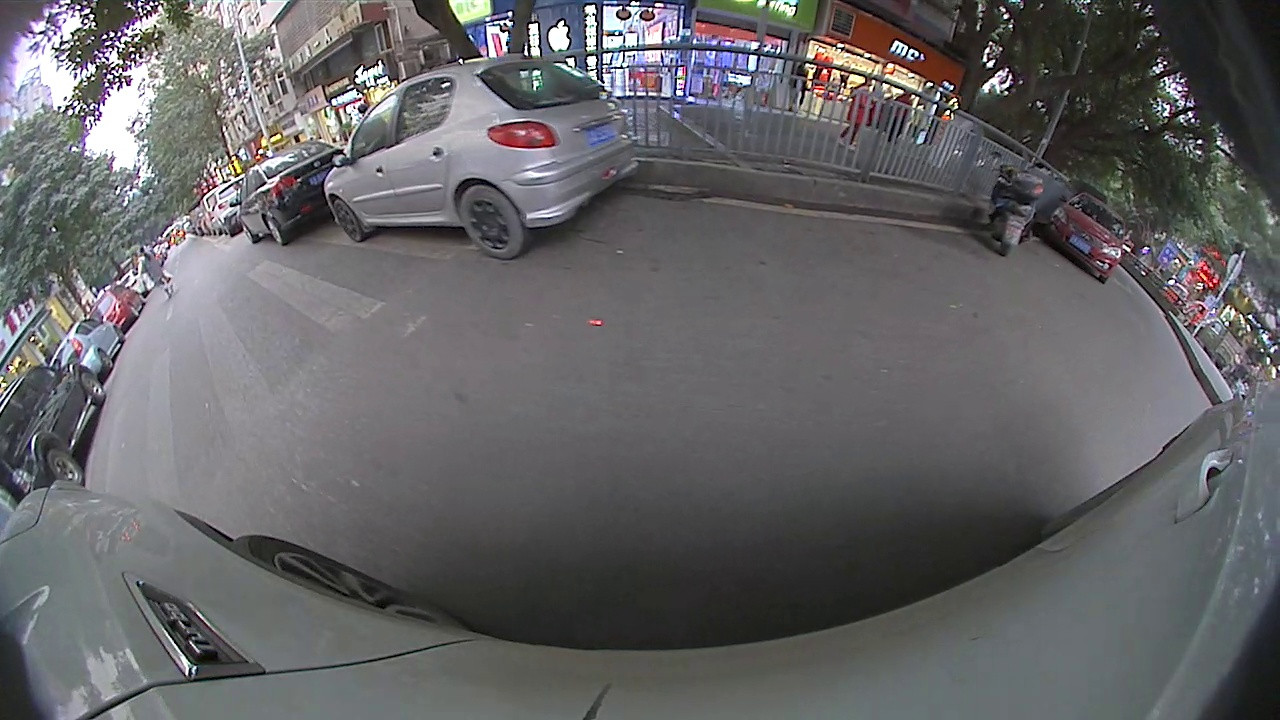car: (323, 60, 640, 262), (1, 358, 108, 496), (239, 141, 346, 247), (1043, 193, 1128, 282), (52, 318, 121, 388), (95, 285, 141, 335)
front: (330, 199, 368, 242), (79, 371, 106, 400)
person: (143, 247, 160, 310)
rear: (454, 186, 523, 258), (43, 444, 84, 486)
rider: (986, 150, 1047, 256)
